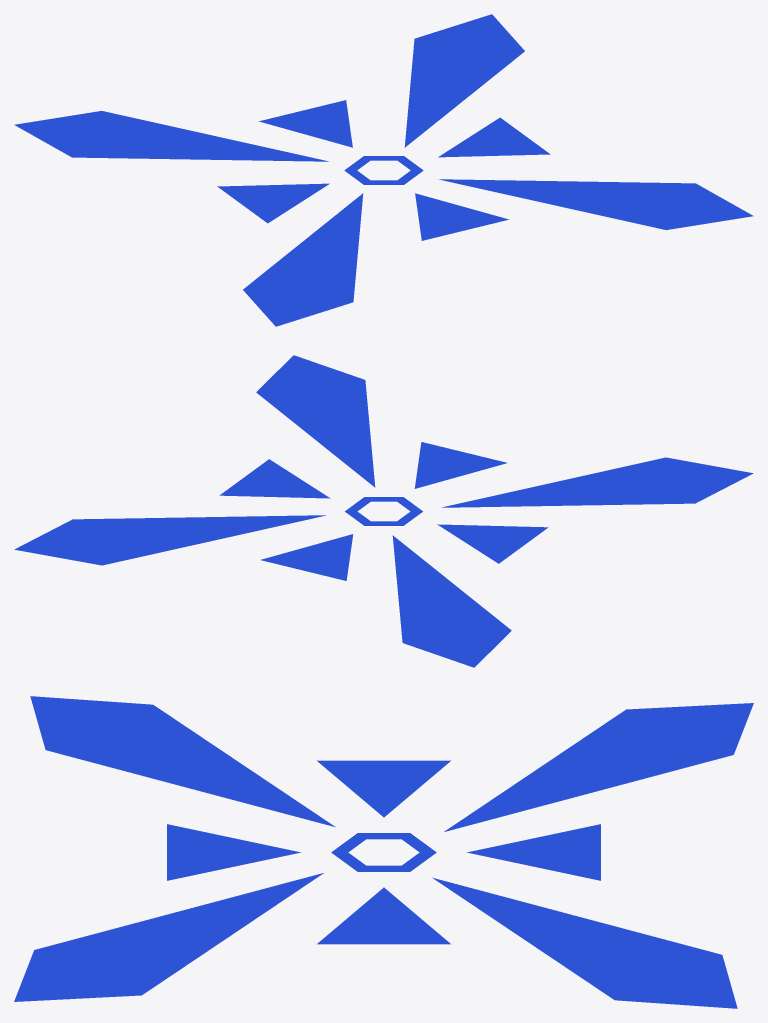
The model's file is Char_HAL_Beam_Target.FBX.
3 views of the same model, one above another, from view 1: azimuth 30°, elevation 25°; view 2: azimuth 150°, elevation 25°; view 3: azimuth 270°, elevation 25° (orthographic). The views are drawn at different scales.
Visible parts, largest first — view 1: Tube003; view 2: Tube003; view 3: Tube003.
Part boxes in pixels (box(x1,y1,x2,y2)): Tube003: box(14, 14, 753, 326); Tube003: box(14, 355, 753, 667); Tube003: box(14, 696, 753, 1008).
Size of the model in its own units: 55.02 by 3.37e-15 by 55.02.
